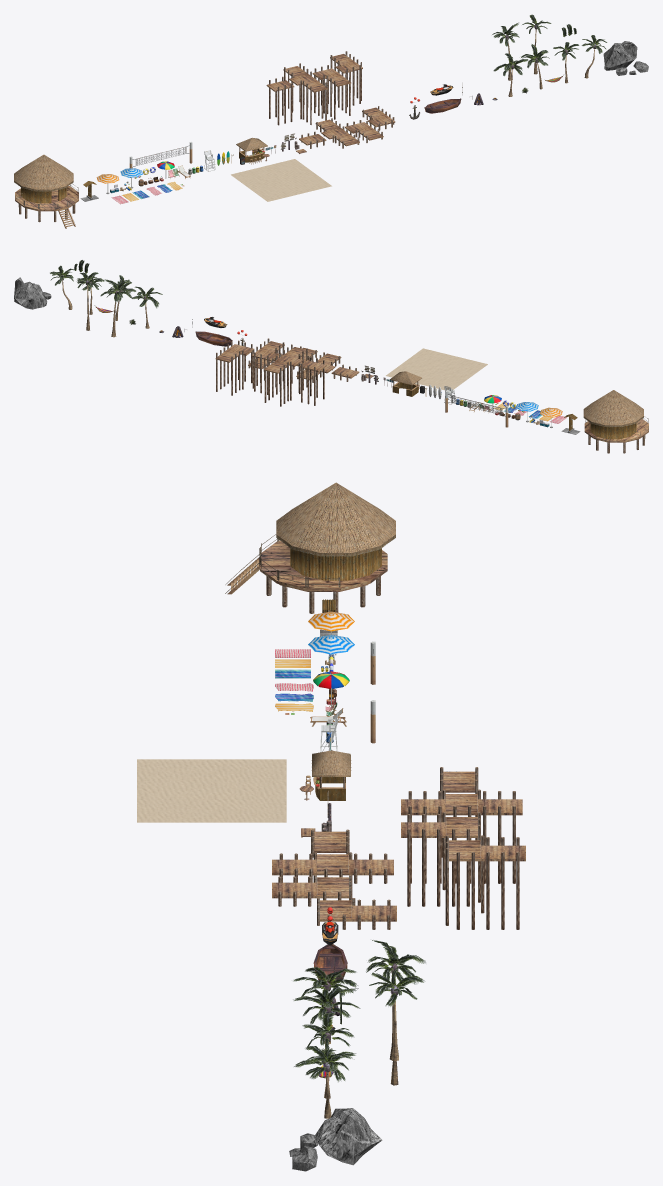
Rendered from Beach Environment & Props.fbx.
The picture shows the model from 3 angles, top to bottom: view 1: azimuth 30°, elevation 25°; view 2: azimuth 150°, elevation 25°; view 3: azimuth 270°, elevation 25°; orthographic projection. The views are drawn at different scales.
Parts seen in each view (by area): view 1: Cabin, Sand Tile, Large Bridge 2, Large Bridge 3, Large Bridge 4, Rock 1, Bridge 2, Large Bridge 1, Tiki Bar, Volleyball Net System, Bridge 3, Bridge 4 (+4 smaller); view 2: Cabin, Sand Tile, Large Bridge 2, Large Bridge 4, Large Bridge 3, Rock 1, Large Bridge 1, Tiki Bar, Volleyball Net System, Bridge 2, Palm 6, Boat (+2 smaller); view 3: Cabin, Sand Tile, Large Bridge 4, Large Bridge 2, Large Bridge 3, Bridge 2, Rock 1, Bridge 3, Bridge 4, Tiki Bar, Palm 6, Palm 1 (+2 smaller).
Boxes of the visible parts, left/top/right/bottom form: Cabin: left=14, top=154, right=78, bottom=228; Sand Tile: left=231, top=159, right=331, bottom=201; Large Bridge 2: left=283, top=63, right=327, bottom=124; Large Bridge 3: left=312, top=65, right=351, bottom=119; Large Bridge 4: left=330, top=51, right=362, bottom=107; Rock 1: left=603, top=41, right=637, bottom=70; Bridge 2: left=315, top=118, right=359, bottom=148; Large Bridge 1: left=266, top=76, right=294, bottom=125; Tiki Bar: left=236, top=137, right=267, bottom=162; Volleyball Net System: left=129, top=142, right=192, bottom=177; Bridge 3: left=345, top=120, right=383, bottom=142; Bridge 4: left=362, top=106, right=395, bottom=130; Cabin: left=583, top=390, right=648, bottom=453; Sand Tile: left=386, top=348, right=487, bottom=390; Large Bridge 2: left=264, top=344, right=308, bottom=406; Large Bridge 4: left=215, top=340, right=254, bottom=395; Large Bridge 3: left=251, top=338, right=284, bottom=394; Rock 1: left=14, top=277, right=47, bottom=309; Large Bridge 1: left=299, top=357, right=326, bottom=405; Tiki Bar: left=390, top=371, right=421, bottom=396; Volleyball Net System: left=445, top=391, right=508, bottom=427; Bridge 2: left=296, top=352, right=341, bottom=382; Palm 6: left=100, top=279, right=132, bottom=337; Boat: left=195, top=331, right=232, bottom=346; Cabin: left=227, top=482, right=395, bottom=613; Sand Tile: left=137, top=759, right=286, bottom=822; Large Bridge 4: left=445, top=835, right=525, bottom=929; Large Bridge 2: left=401, top=789, right=522, bottom=883; Large Bridge 3: left=401, top=812, right=480, bottom=906; Bridge 2: left=272, top=852, right=393, bottom=883; Rock 1: left=313, top=1108, right=382, bottom=1165; Bridge 3: left=272, top=874, right=352, bottom=906; Bridge 4: left=317, top=898, right=396, bottom=929; Tiki Bar: left=311, top=750, right=351, bottom=800; Palm 6: left=366, top=940, right=425, bottom=1060; Palm 1: left=294, top=1046, right=356, bottom=1118.
Size of what is drawn, in the model's own units: 25999 by 2254 by 7021.
